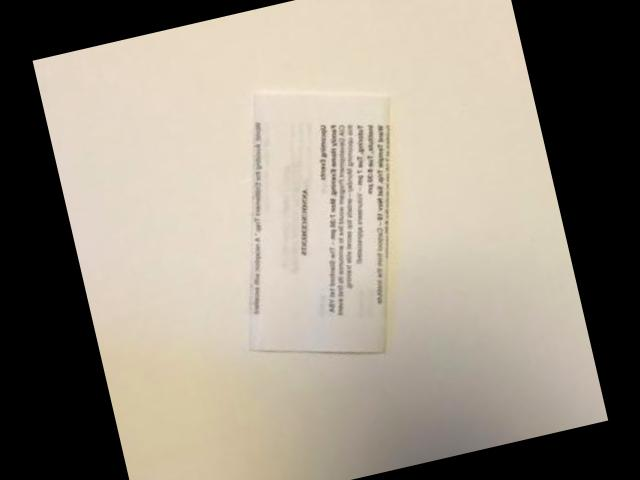cardboard paper: (246, 90, 387, 350)
